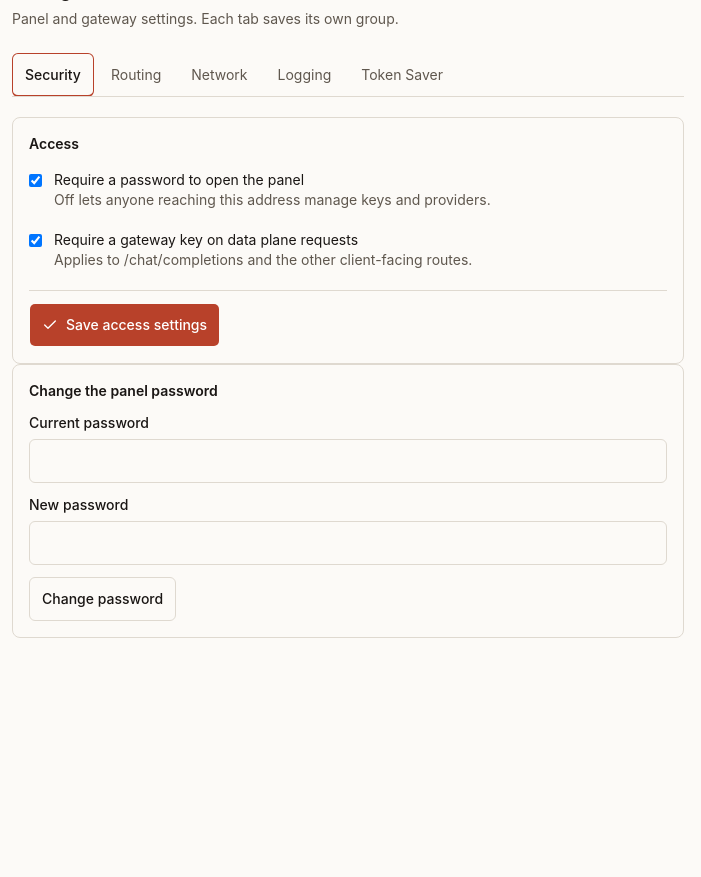
Test: the routing tab failure-class editor › goes quiet again when a typed ceiling is blanked back to inherit
Expected: the element showing "Security Routing Network Logging Token Saver" is shown, 12,53 -> 684,97
Click the tab "Routing" at (136,75), box 98,53 -> 174,97
(page scrolled)
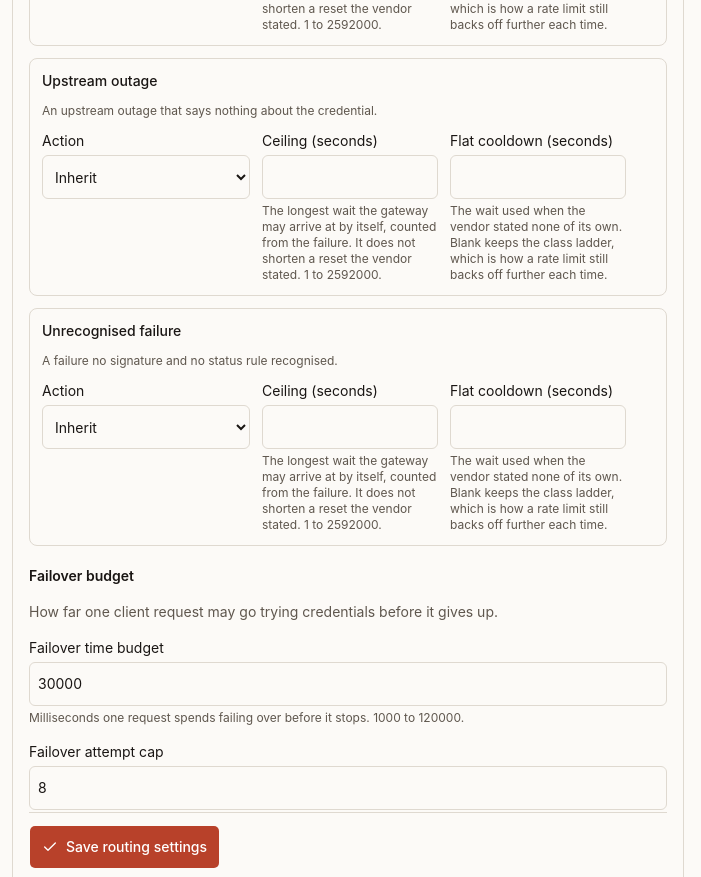
Type "90" into the number field labelled "Ceiling (seconds)" below "Unrecognised failure" at (350,427), box 262,405 -> 438,449
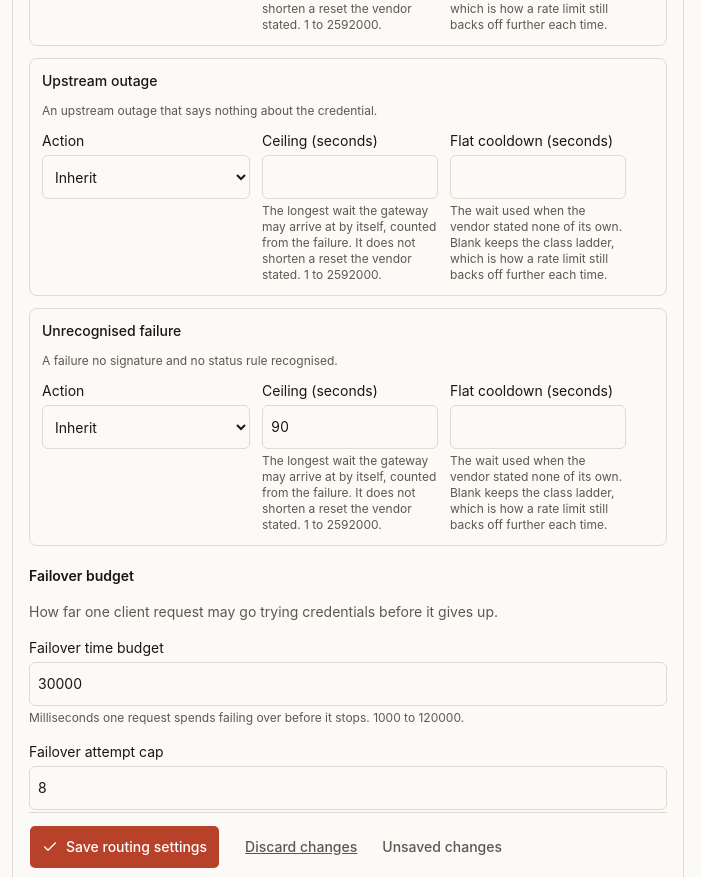
Expected: the text "Unsaved changes" is shown, 382,837 -> 502,857
Clear the number field labelled "Ceiling (seconds)" below "Unrecognised failure" at (350,427), box 262,405 -> 438,449
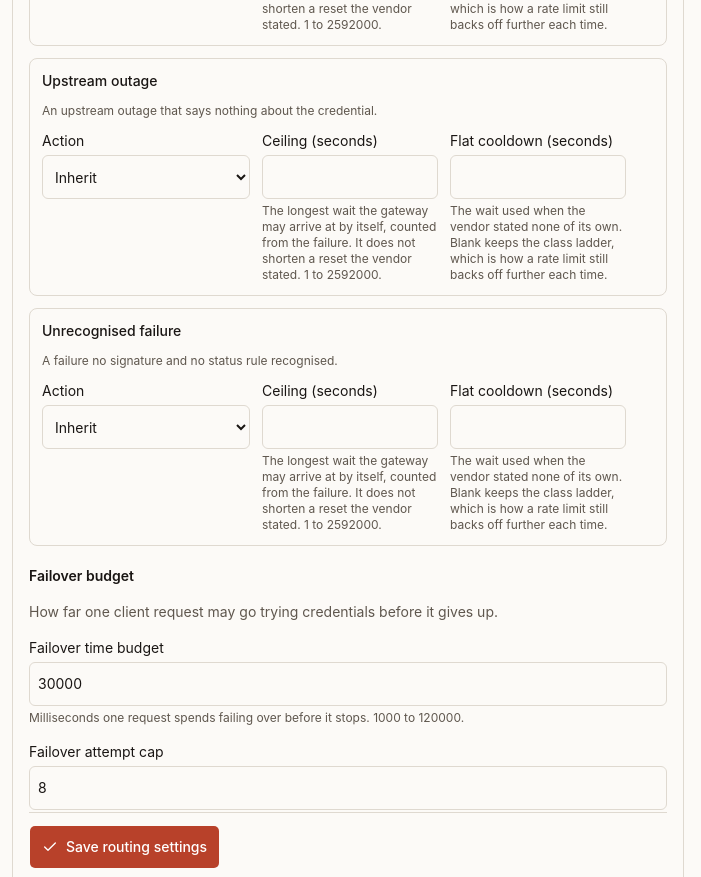
Expected: the text "Unsaved changes" is gone
